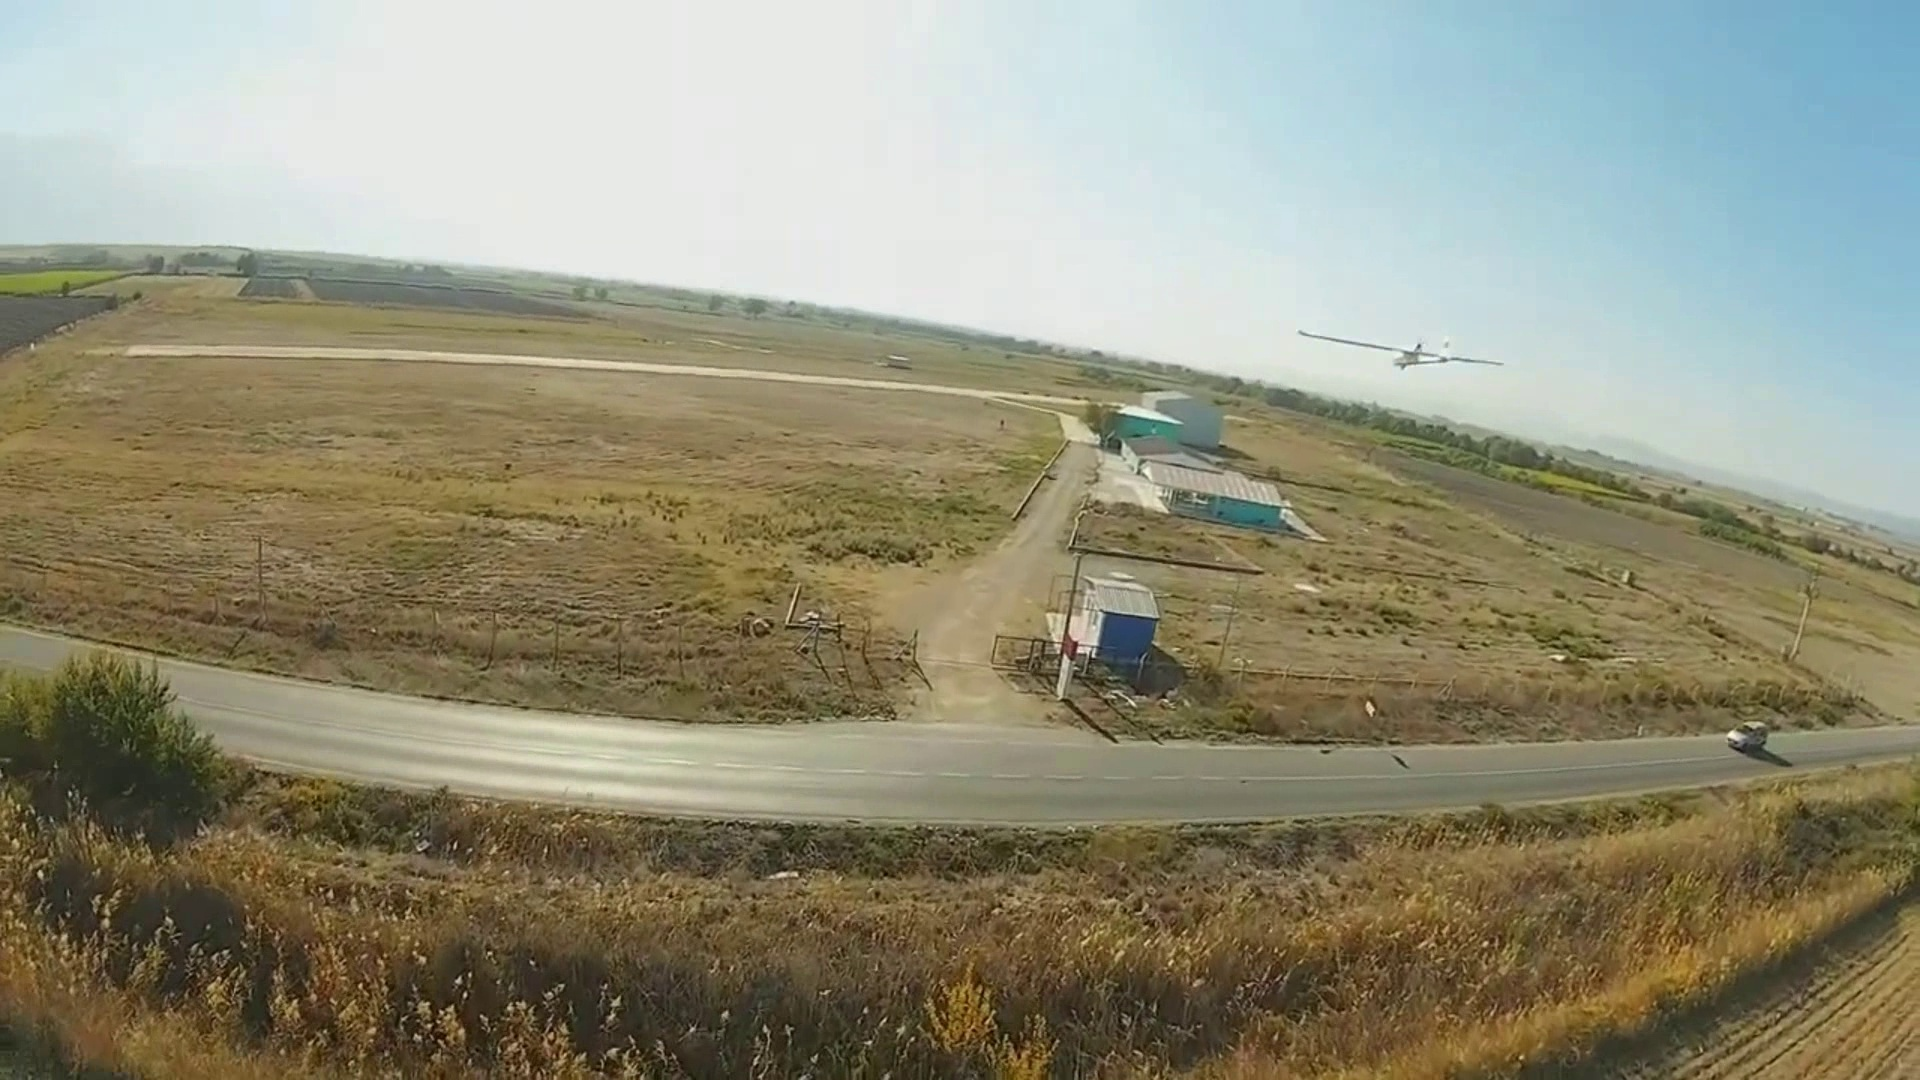airplane: (1294, 316, 1509, 371)
